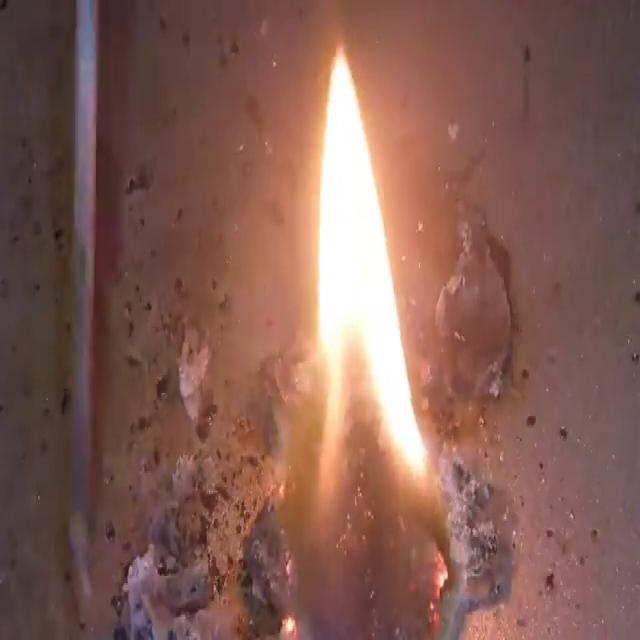Fire: (286, 5, 477, 640)
